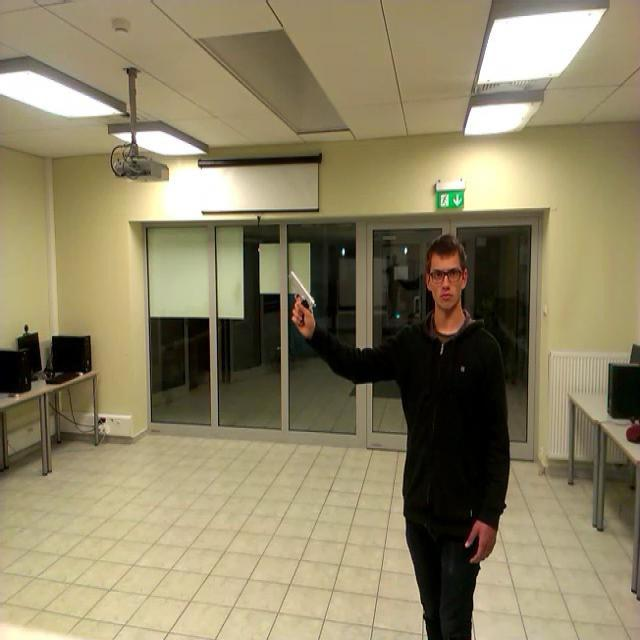weapon: (288, 270, 314, 330)
